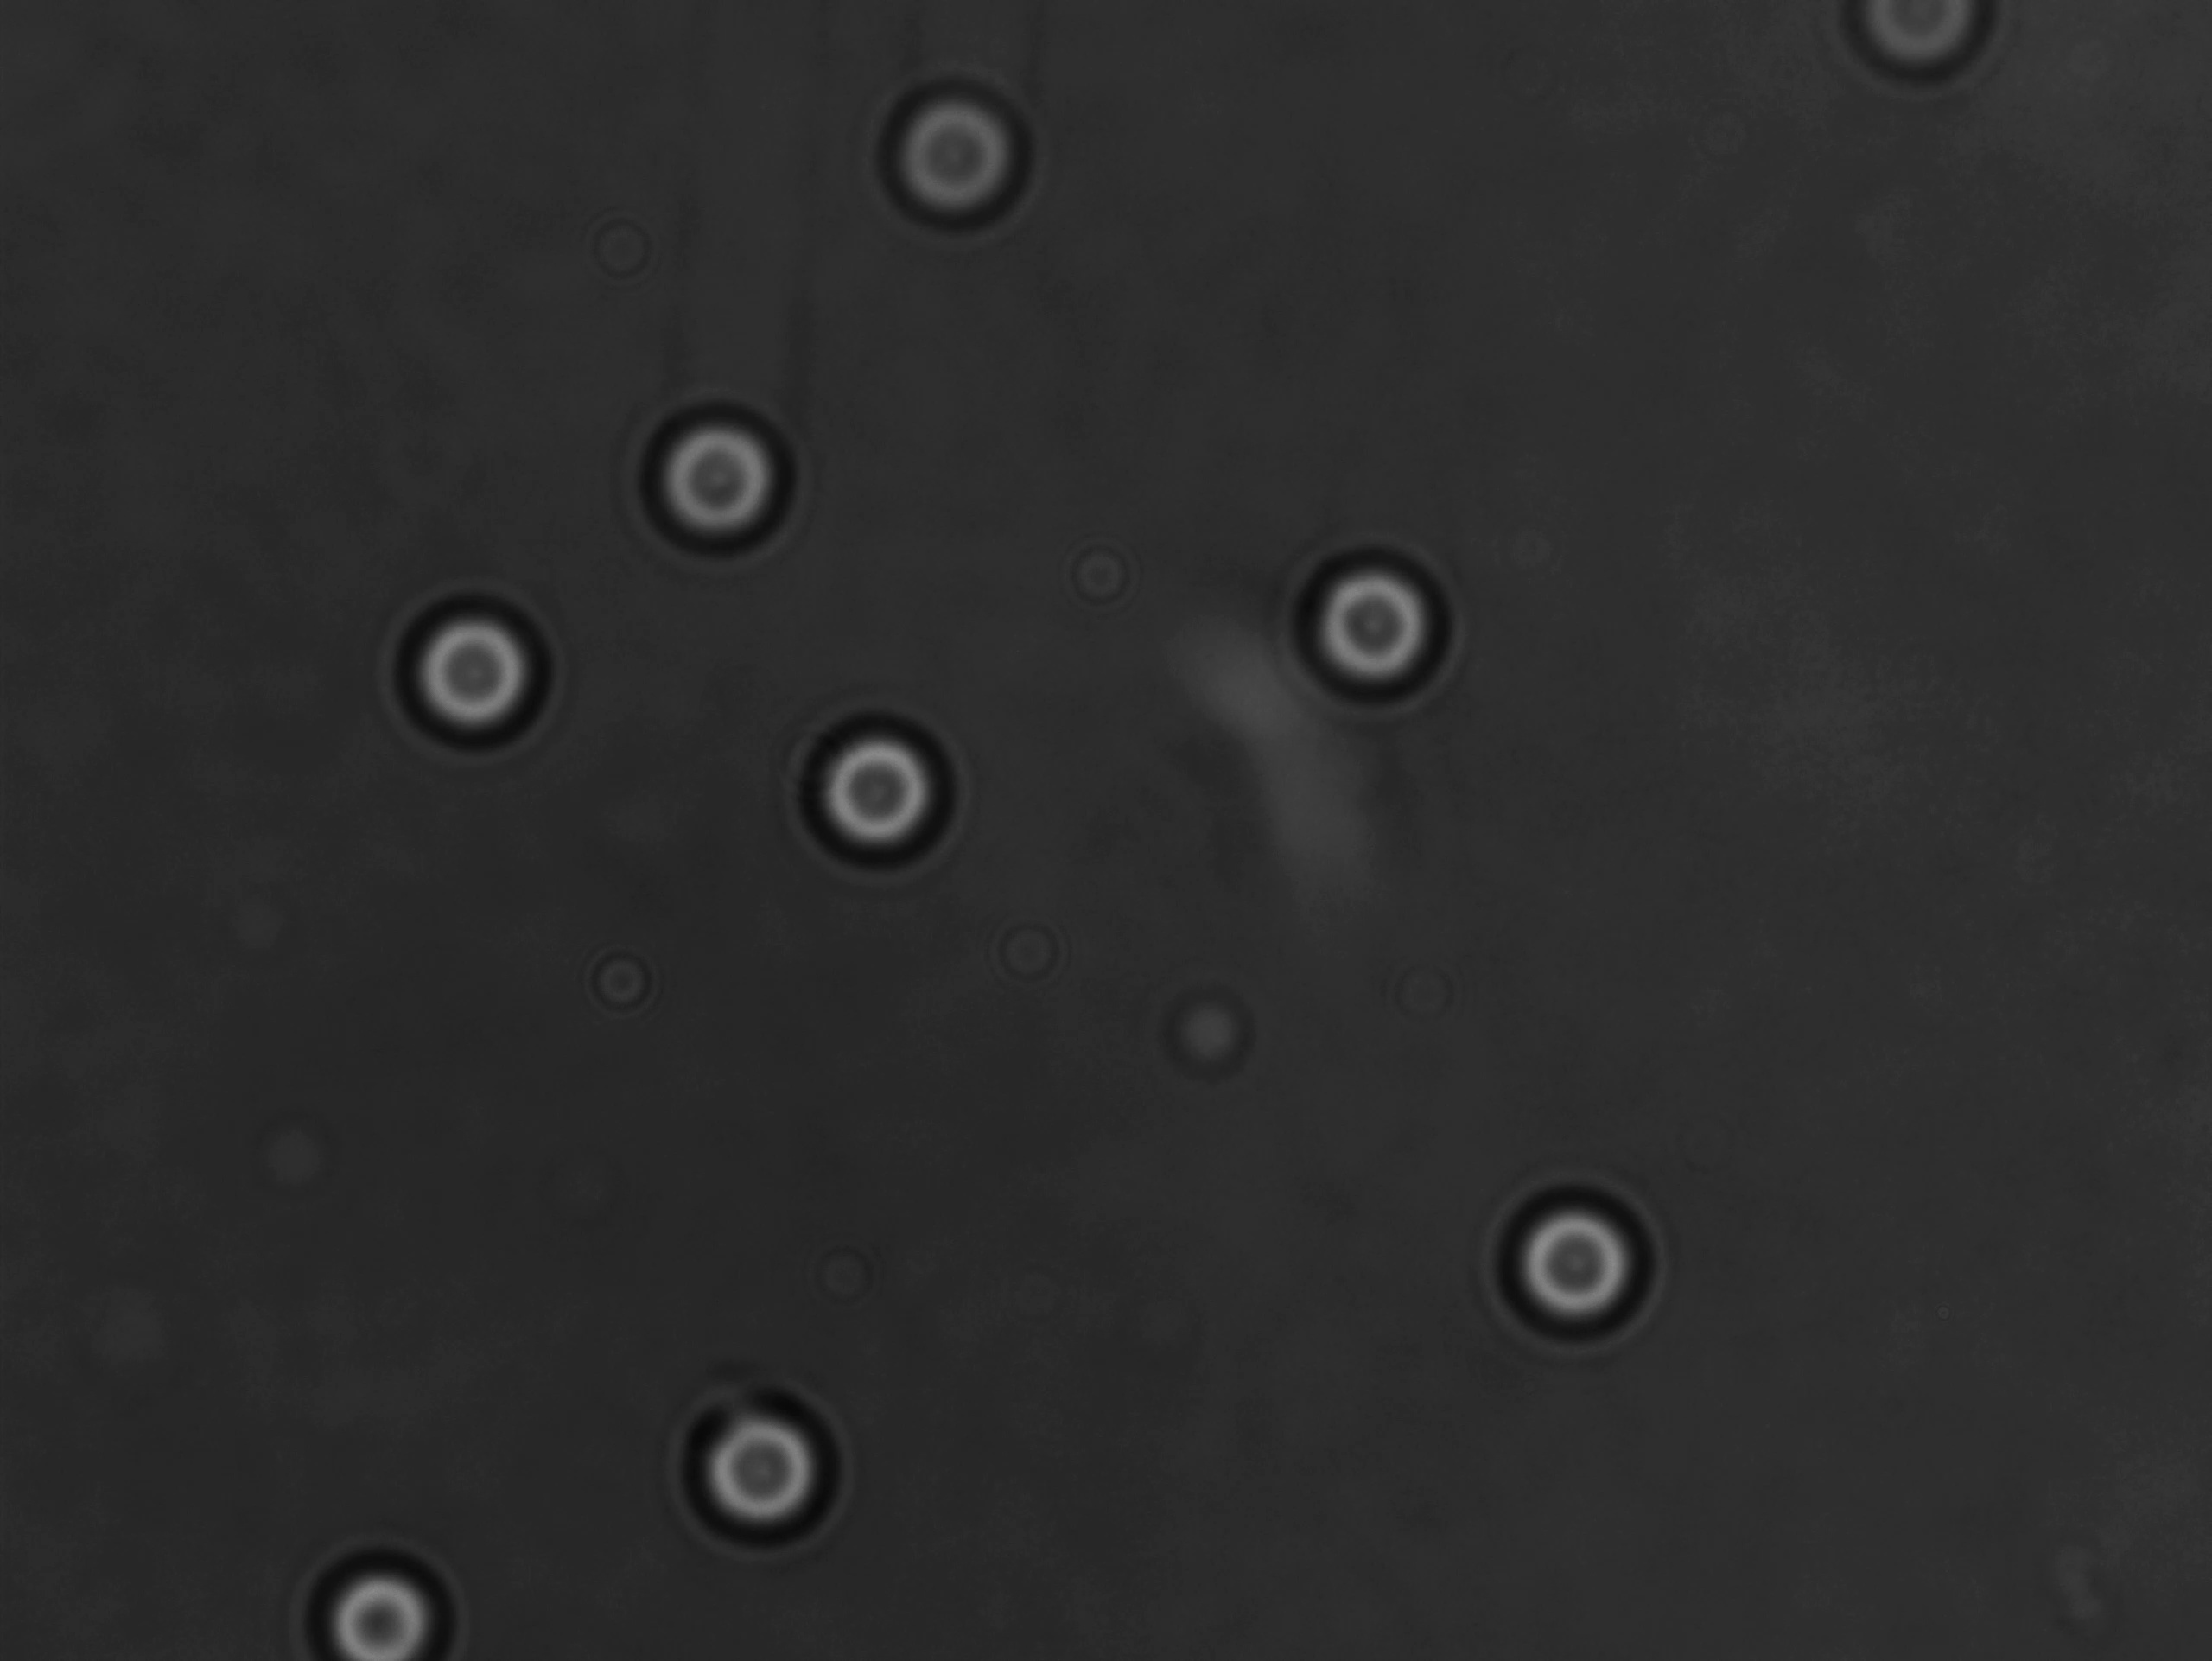depth:40: (616, 373, 818, 583), (373, 564, 567, 769), (789, 689, 982, 886), (1472, 1174, 1675, 1361), (679, 1375, 872, 1558), (867, 68, 1048, 244), (1291, 541, 1460, 717), (291, 1537, 476, 1661)
